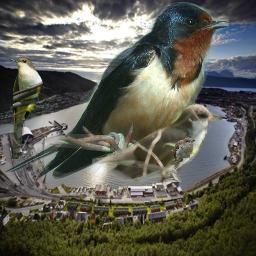Cuckoo: (92, 103, 222, 182), (9, 57, 43, 159), (172, 137, 195, 170)
Swallow: (4, 2, 229, 179)
